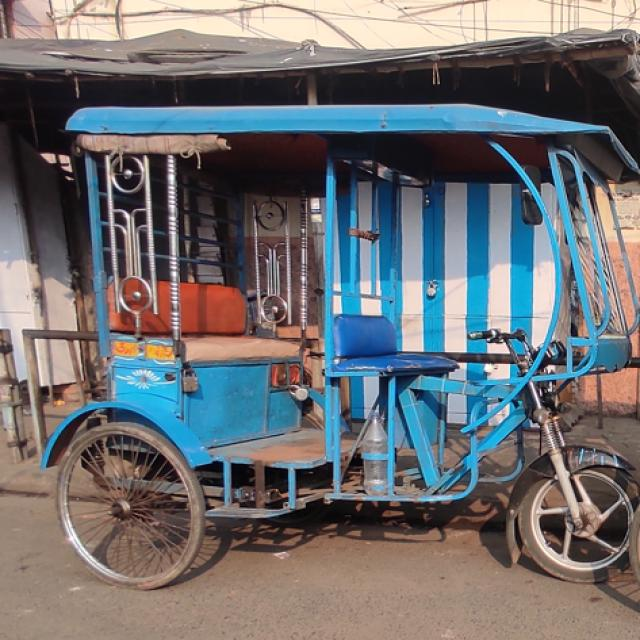rickshaw: (42, 101, 640, 597)
